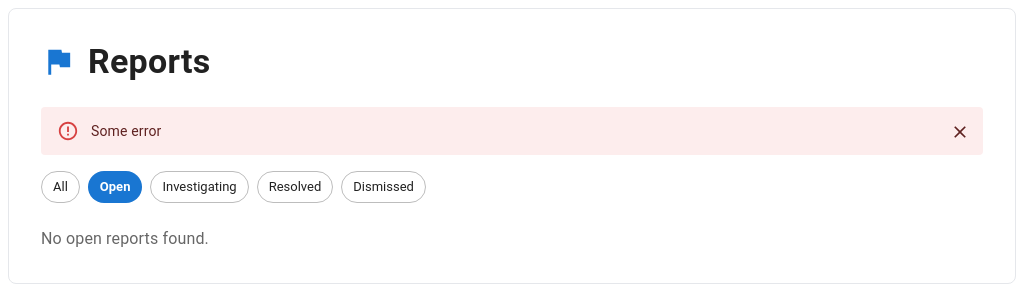
Scenario: ReportsPage › closes the error alert when the close button is clicked
Expected: the text "Some error" is shown, [91,123,162,139]
Click the button titled "Close": (960,132) [945,117,975,147]
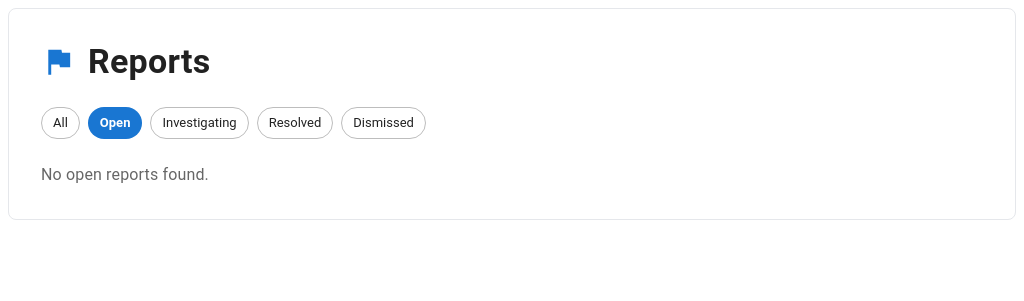
Expected: the text "Some error" is gone
